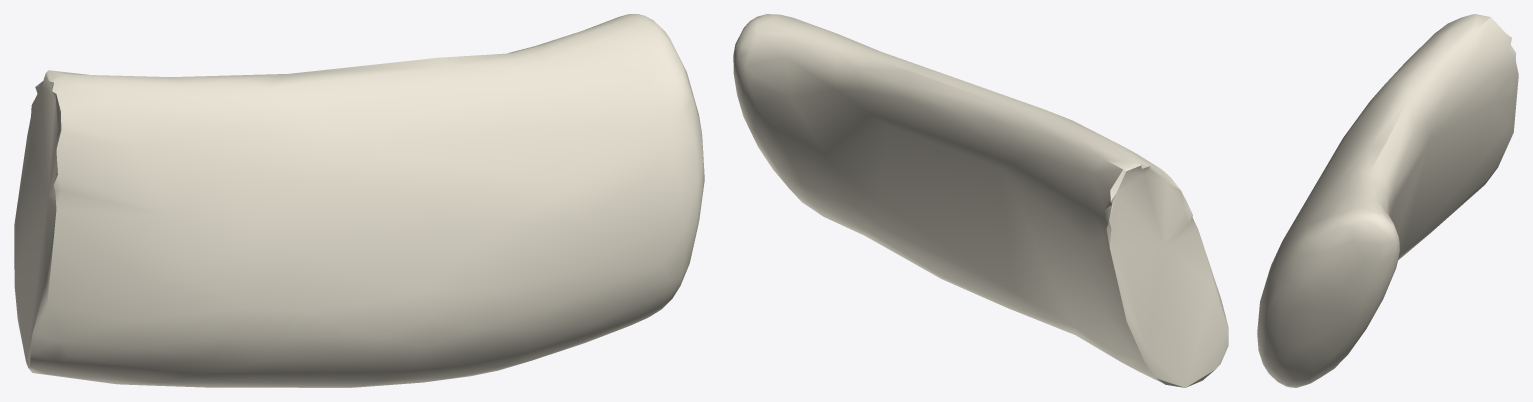
File: fma7913_fj3337.glb
3 views of the same model, side by side, from view 1: azimuth 30°, elevation 25°; view 2: azimuth 150°, elevation 25°; view 3: azimuth 270°, elevation 25° (orthographic). The views are drawn at different scales.
Parts seen in each view (by area): view 1: FMA7913_FJ3337; view 2: FMA7913_FJ3337; view 3: FMA7913_FJ3337.
Boxes of the visible parts, box(x1,y1,x2,y2) form: FMA7913_FJ3337: box(14, 14, 704, 387); FMA7913_FJ3337: box(733, 14, 1228, 387); FMA7913_FJ3337: box(1257, 14, 1518, 387).
Size of the model in its own units: 0.0377 by 0.0176 by 0.0187.
